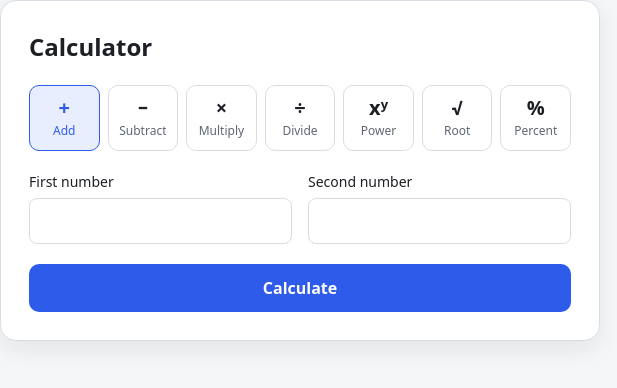
Calculator › clears a field error when the field changes
Step 1. Click the button "Calculate" → (300, 288), box [29,264,571,312]
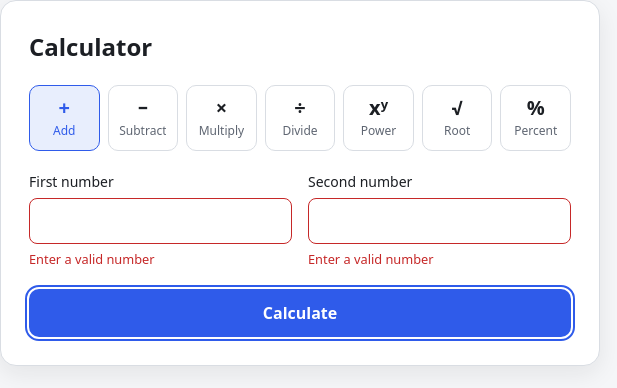
Step 2. Type "4" into the number field labelled "First number" → (160, 221), box [29,198,292,244]
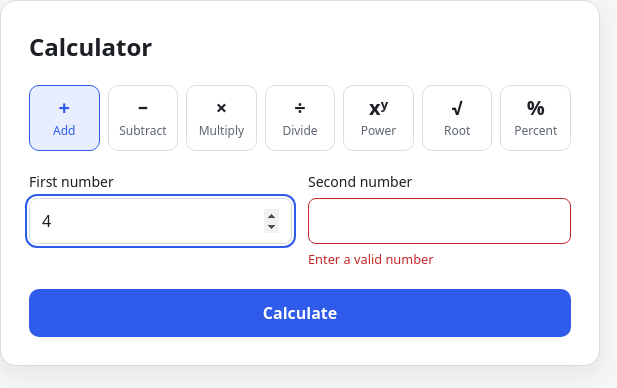
Now the text "Enter a valid number" is shown once, box [308,250,434,268]
